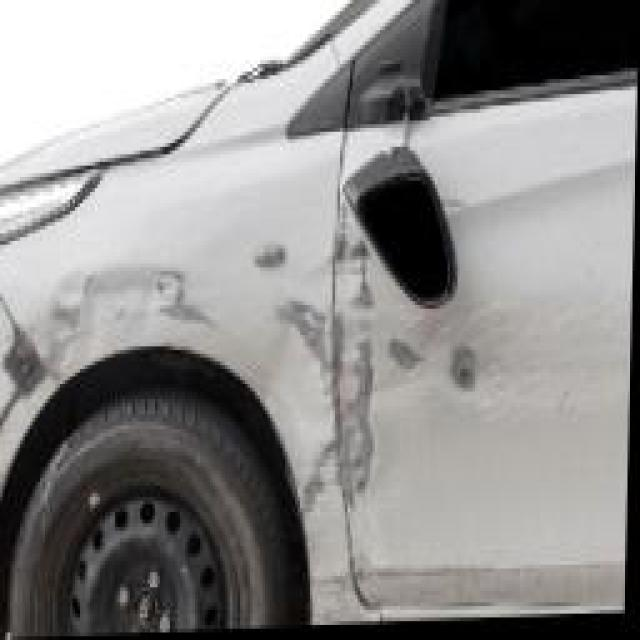Door: (337, 115, 533, 602)
Fender: (0, 142, 347, 564)
